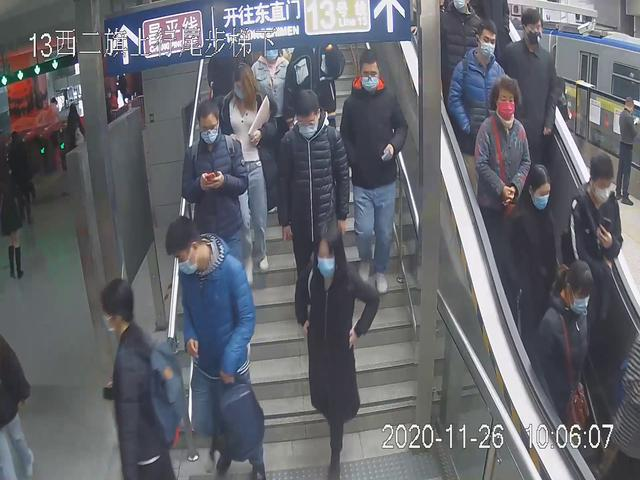person: (159, 213, 272, 480), (292, 221, 382, 480), (272, 83, 354, 331), (94, 270, 183, 480), (341, 44, 410, 300), (179, 101, 252, 302), (213, 58, 275, 283), (558, 152, 623, 358), (496, 7, 564, 185), (532, 259, 594, 454), (448, 20, 512, 204), (501, 160, 558, 366), (471, 71, 534, 252)
